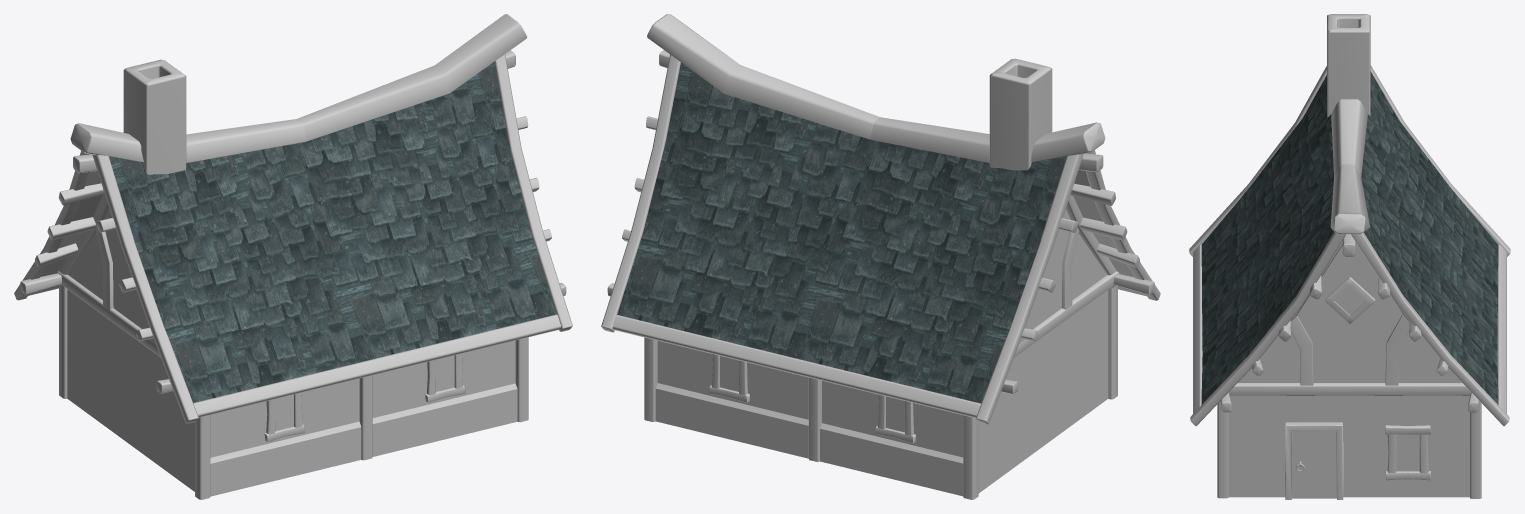
Rendered from house20.fbx.
3 renders of one model, left to right at view 1: azimuth 30°, elevation 25°; view 2: azimuth 150°, elevation 25°; view 3: azimuth 270°, elevation 25°, orthographic. The views are drawn at different scales.
Visible parts, largest first — view 1: house20; view 2: house20; view 3: house20.
Part boxes in pixels (box(x1,y1,x2,y2)): house20: box(14, 14, 572, 499); house20: box(601, 14, 1160, 499); house20: box(1189, 14, 1510, 499).
Bounding box in the file's own units: 1318 × 1046 × 896.
